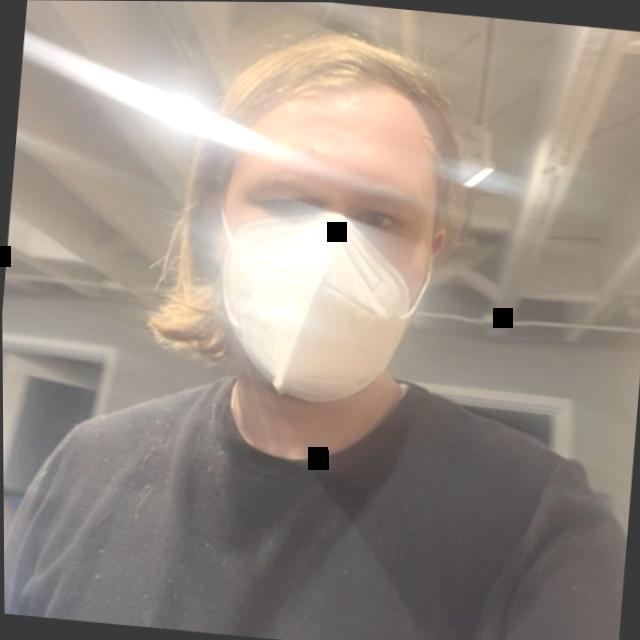Mask: (152, 18, 497, 422)
